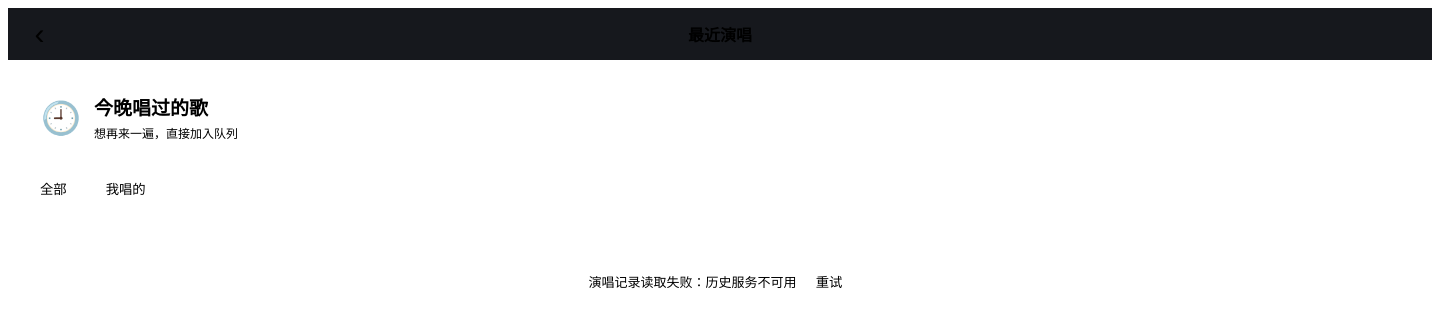
Scenario: RecentHistoryView › shows a retryable history error and renders rows after recovery
What coordinates should you click on to do the following:
click the button with class "retry"
I would click on:
 (829, 282)
Its box is [807,268,852,295].
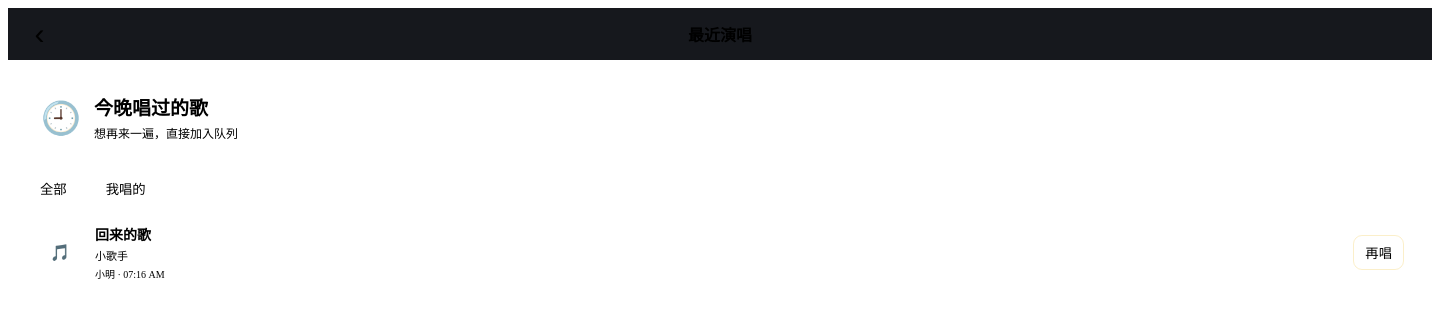
expect the text "回来的歌" is shown: met, box [95,228,151,243]
expect the element with class "cover" reads "🎵": met, box [50,244,70,261]
